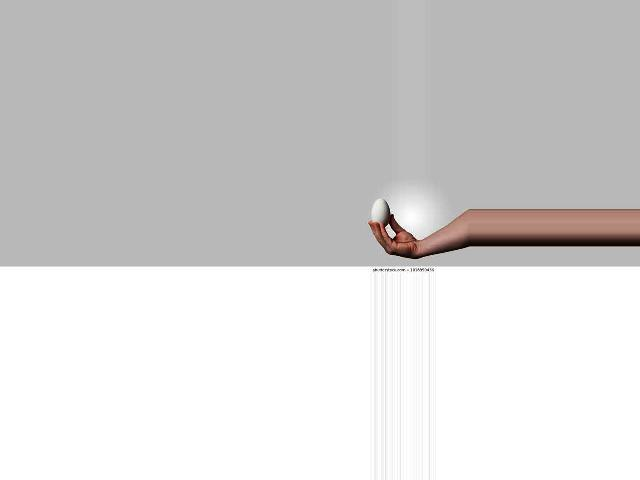egg: (371, 198, 391, 227)
